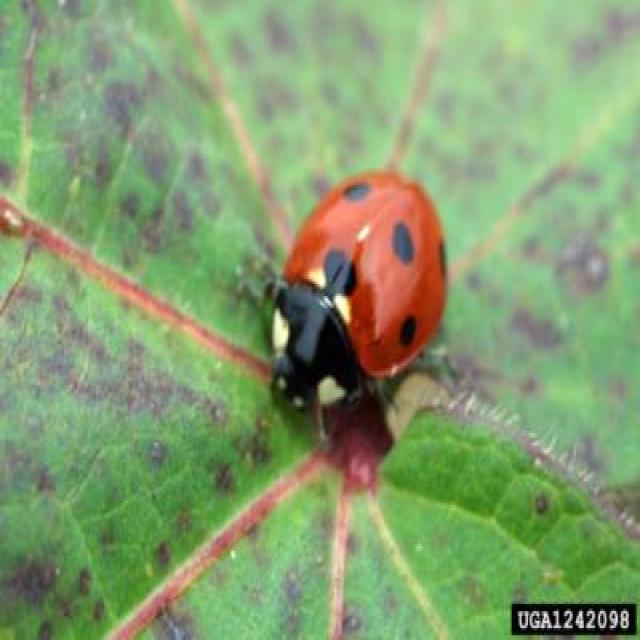body: (274, 171, 446, 401)
insect: (248, 170, 448, 415)
wings: (279, 172, 448, 378)
